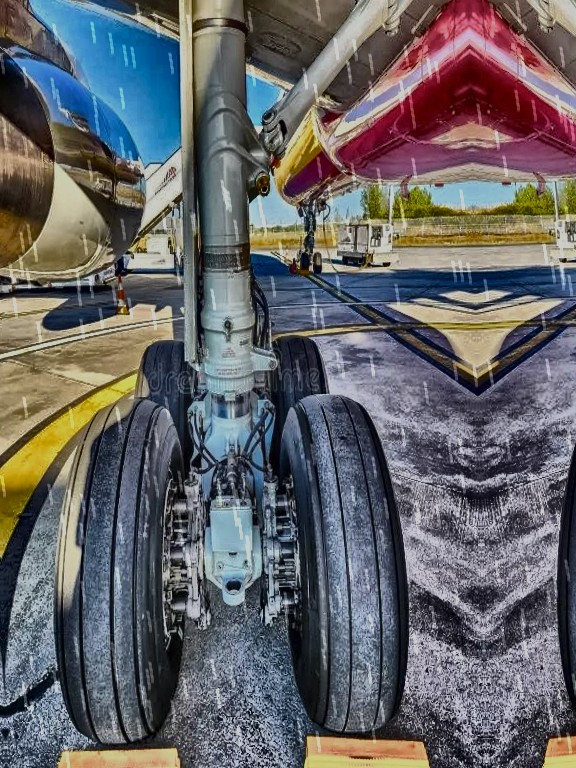chock: (304, 728, 437, 768), (47, 740, 186, 768), (299, 268, 309, 278)
wheel: (51, 397, 192, 744), (278, 393, 411, 733), (266, 333, 332, 470), (135, 338, 196, 463), (312, 252, 322, 273), (299, 252, 309, 270)
